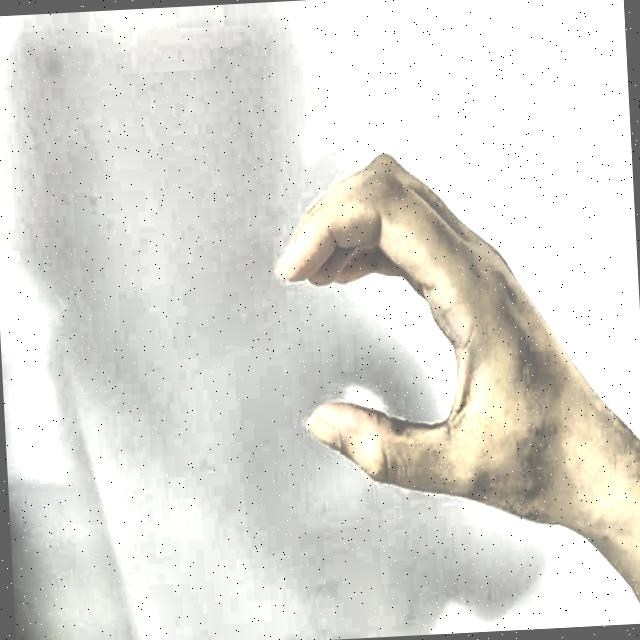A: (238, 132, 565, 560)
